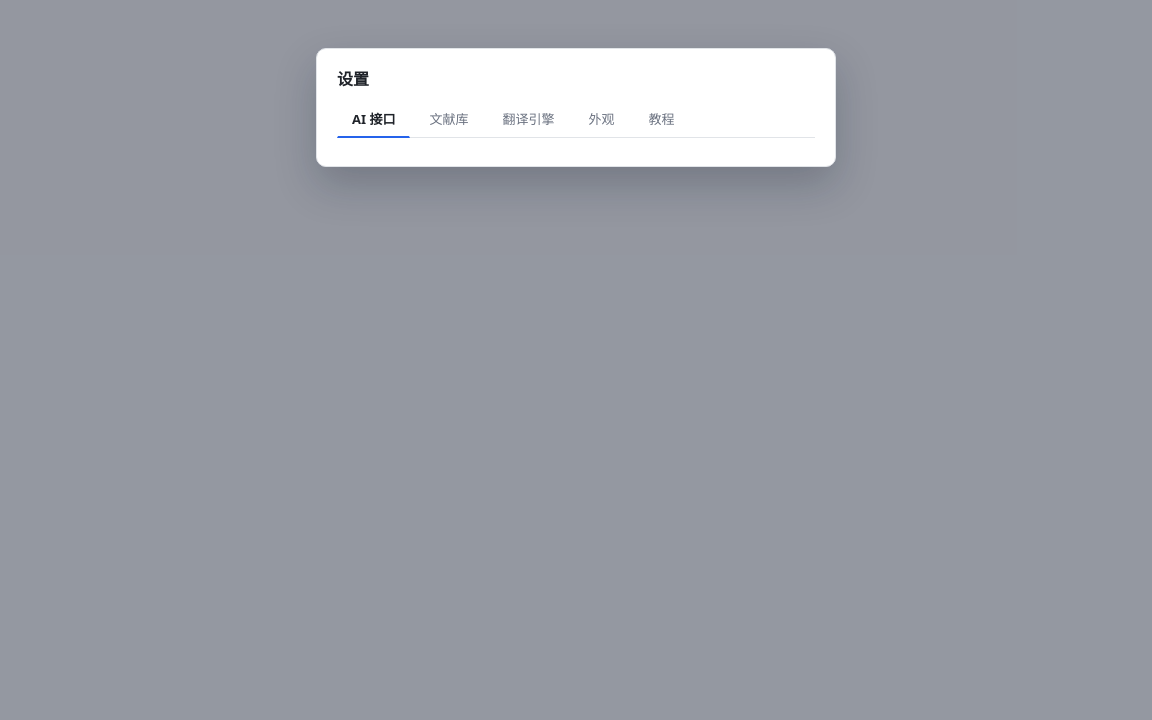
Test case: SettingsDialog tabs › 设置分类包含外观，纸纹强度在设置页调节，主题仍只在顶栏切换
Click the tab "外观" at (602, 120), box [574, 103, 630, 138]
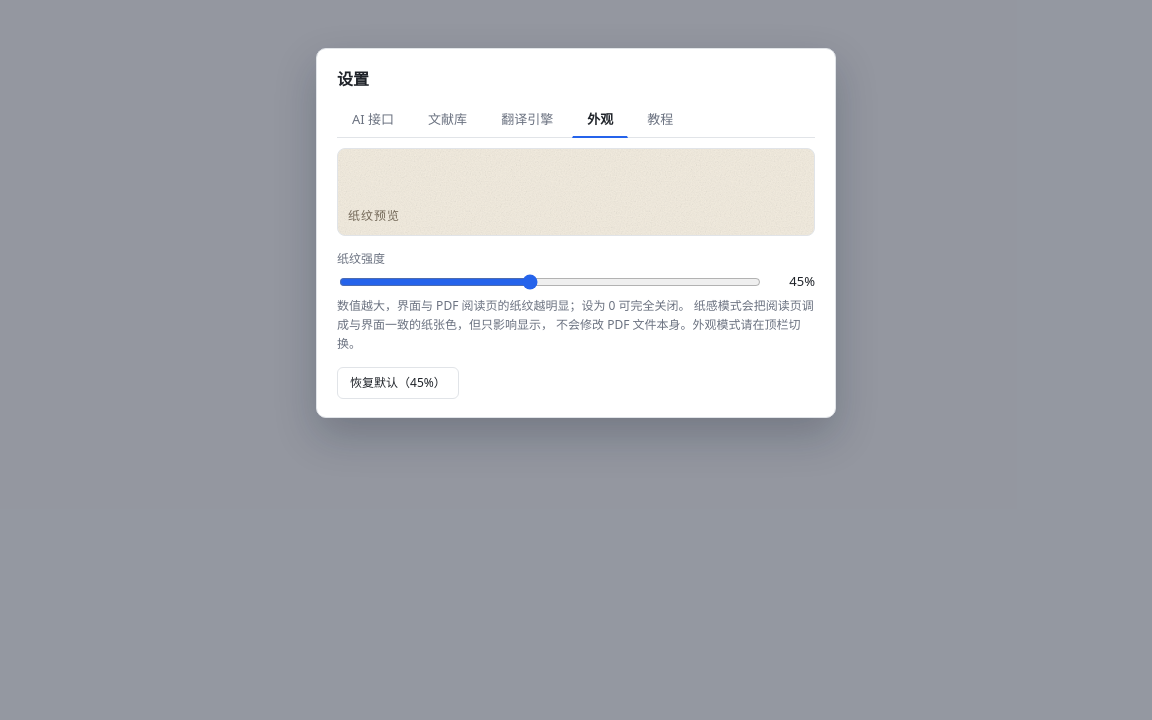
Now the slider named "纸纹强度" is shown, box [339, 274, 761, 290]
